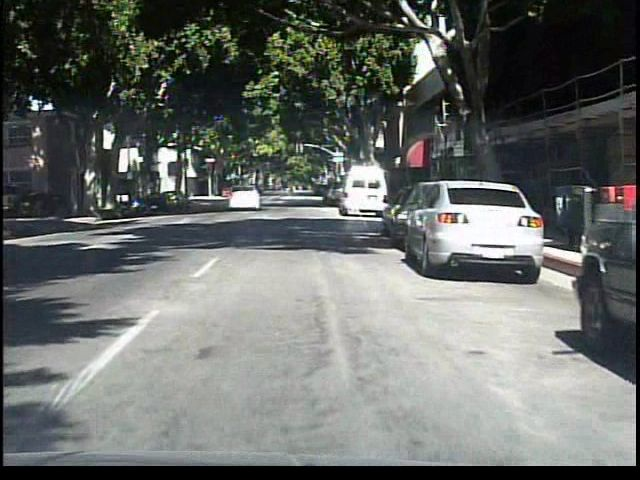person: (286, 173, 302, 205)
